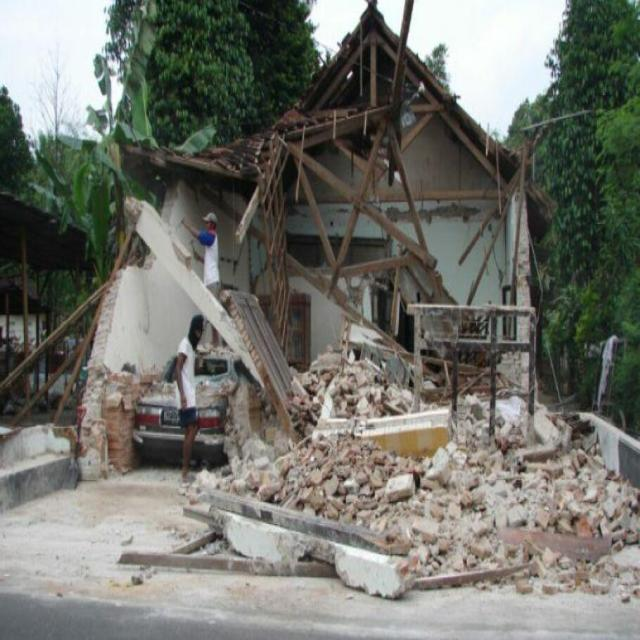damage: (191, 354, 640, 640), (190, 84, 437, 336), (75, 123, 177, 494)
